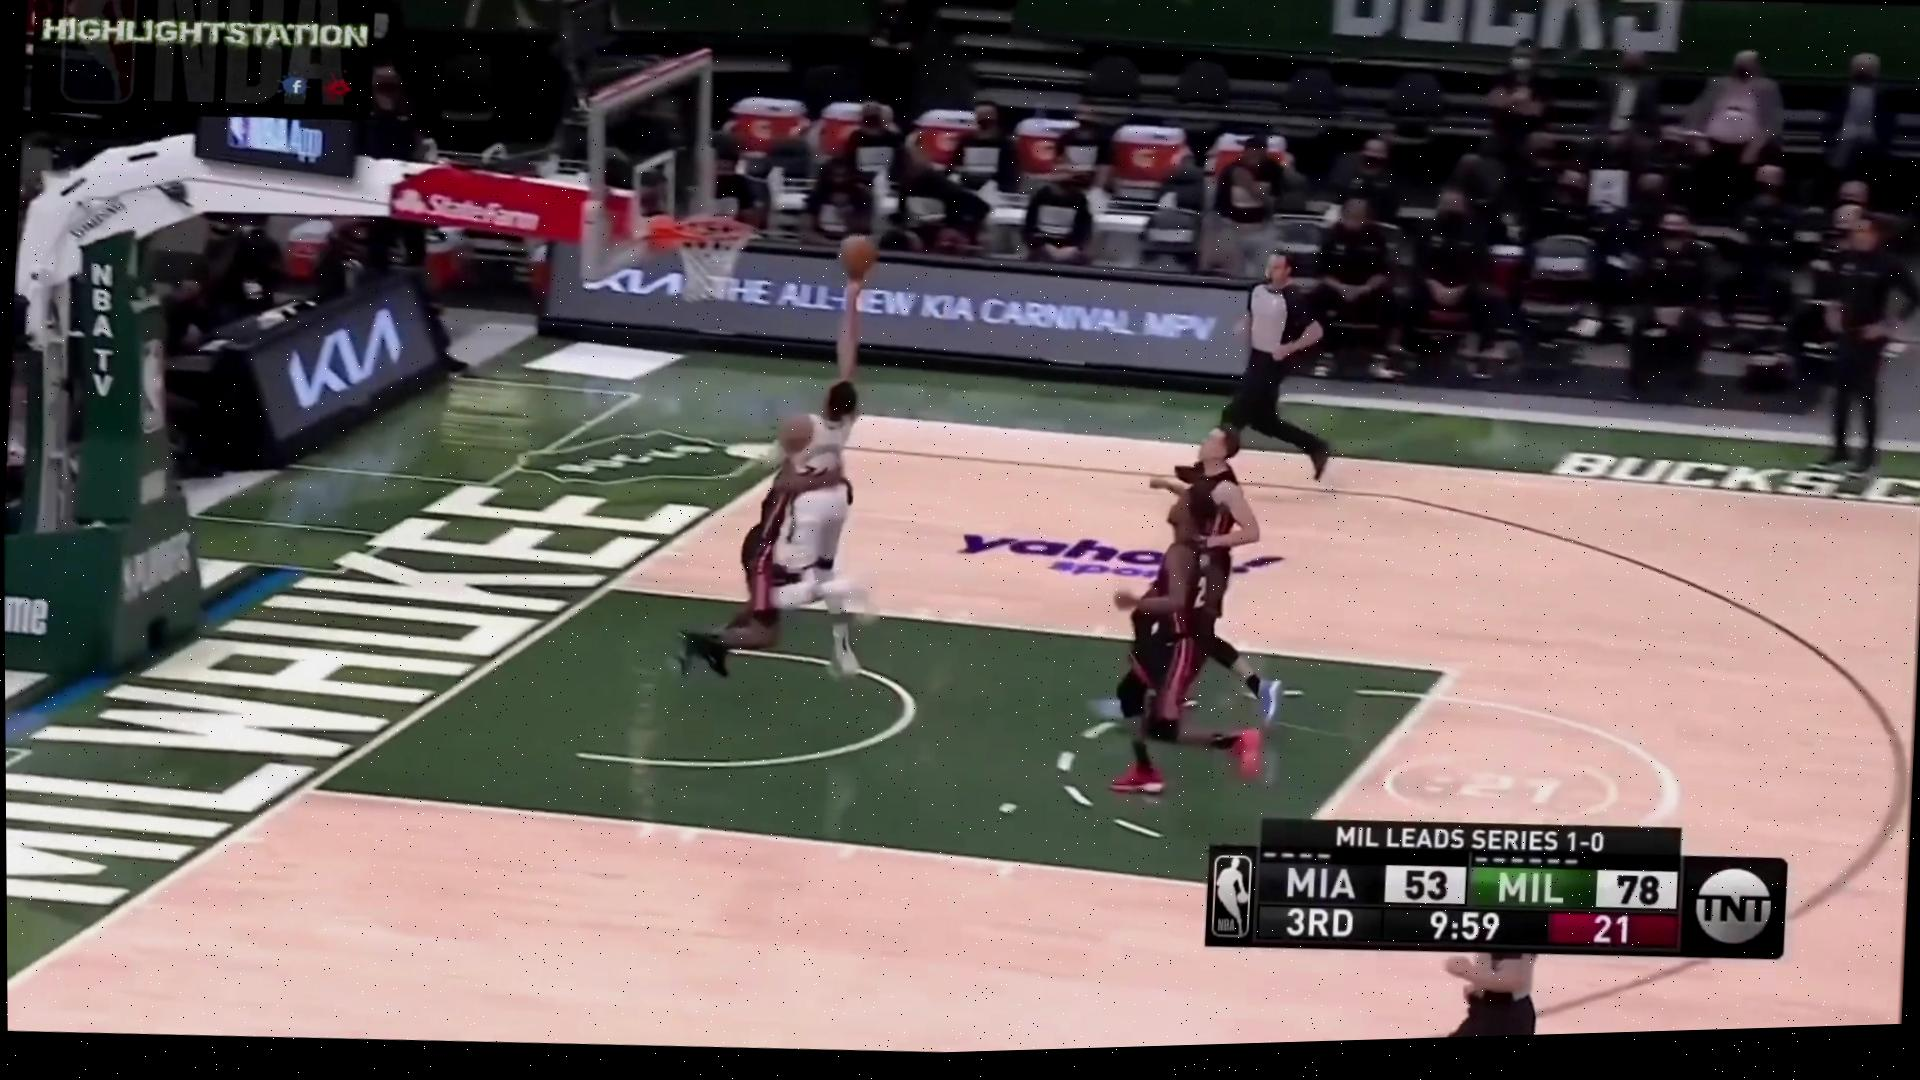foul: (678, 349, 922, 694)
